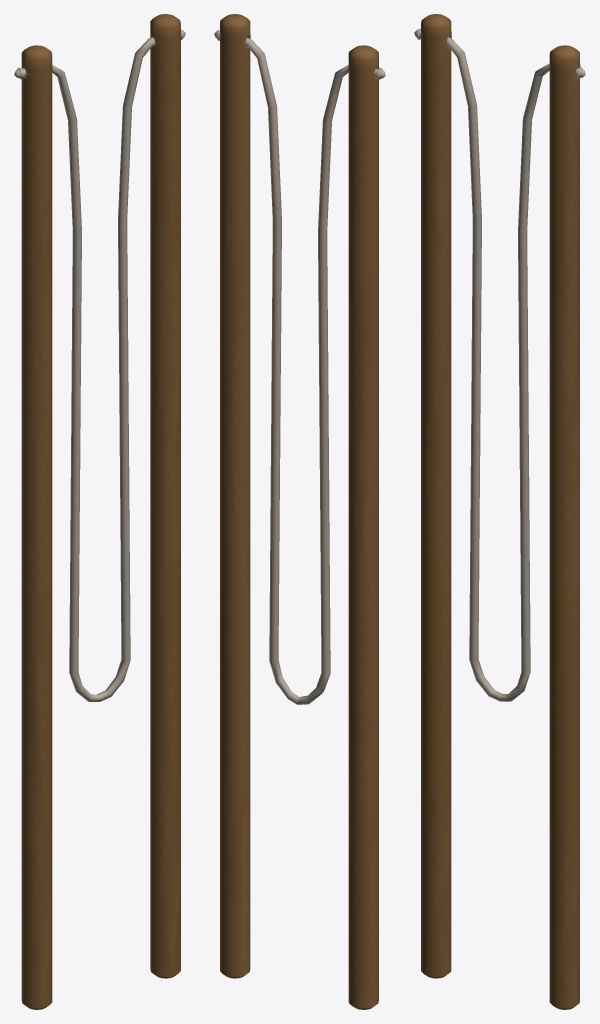
Rendered from Diabolo_Sticks_Scaled.fbx.
The picture shows the model from 3 angles, left to right: view 1: azimuth 30°, elevation 25°; view 2: azimuth 150°, elevation 25°; view 3: azimuth 330°, elevation 25°; orthographic projection.
Visible parts, largest first — view 1: Diabolo_Stick2, Diabolo_Stick1, Diabolo_String2; view 2: Diabolo_Stick2, Diabolo_Stick1, Diabolo_String2; view 3: Diabolo_Stick1, Diabolo_Stick2, Diabolo_String2.
Part boxes in pixels (x1=…): Diabolo_Stick2: x1=21, y1=45, x2=52, y2=1009; Diabolo_Stick1: x1=150, y1=14, x2=181, y2=978; Diabolo_String2: x1=14, y1=30, x2=185, y2=701; Diabolo_Stick2: x1=348, y1=45, x2=379, y2=1009; Diabolo_Stick1: x1=219, y1=14, x2=250, y2=978; Diabolo_String2: x1=214, y1=30, x2=385, y2=704; Diabolo_Stick1: x1=549, y1=45, x2=580, y2=1009; Diabolo_Stick2: x1=420, y1=14, x2=451, y2=978; Diabolo_String2: x1=414, y1=28, x2=585, y2=701.
Bounding box in the file's own units: 4.13 × 22.04 × 0.6415.
